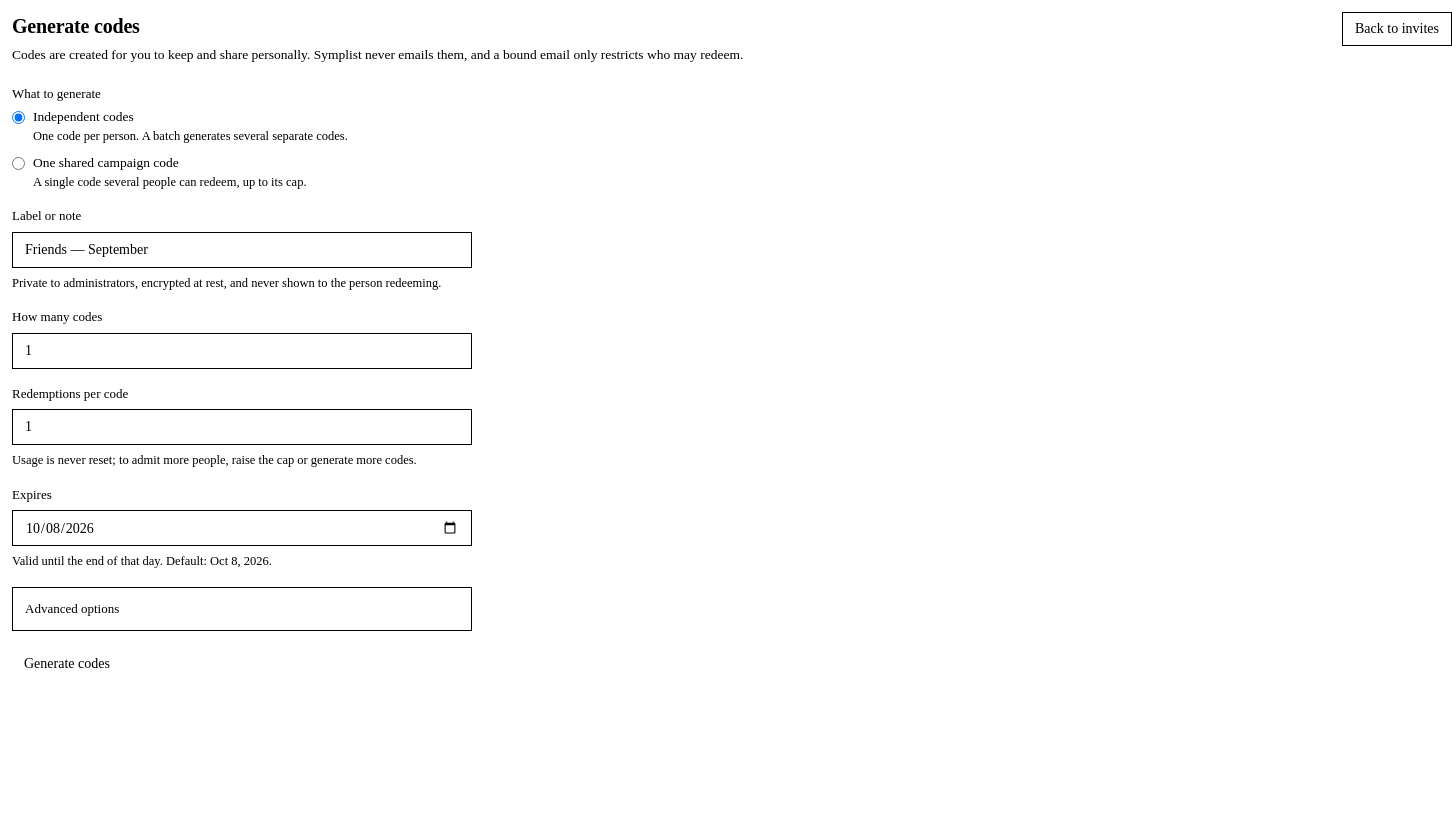
generating invite codes (admin_invite_create.md) › explains a replayed batch whose codes can no longer be shown
Click the button "Generate codes" at (67, 664), box [12,647,122,681]
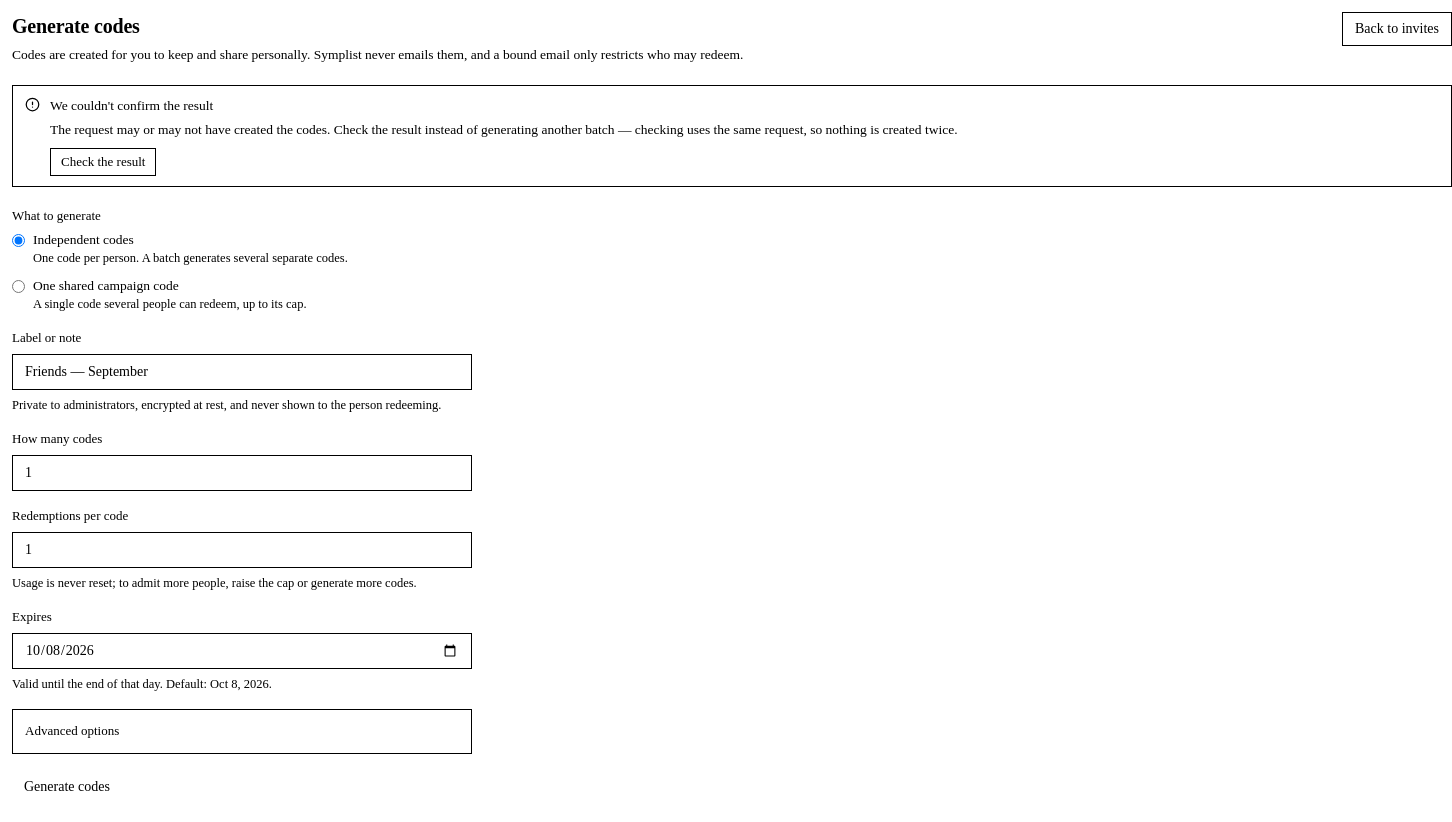
Click the button "Check the result" at (103, 162), box [50,148,156,176]
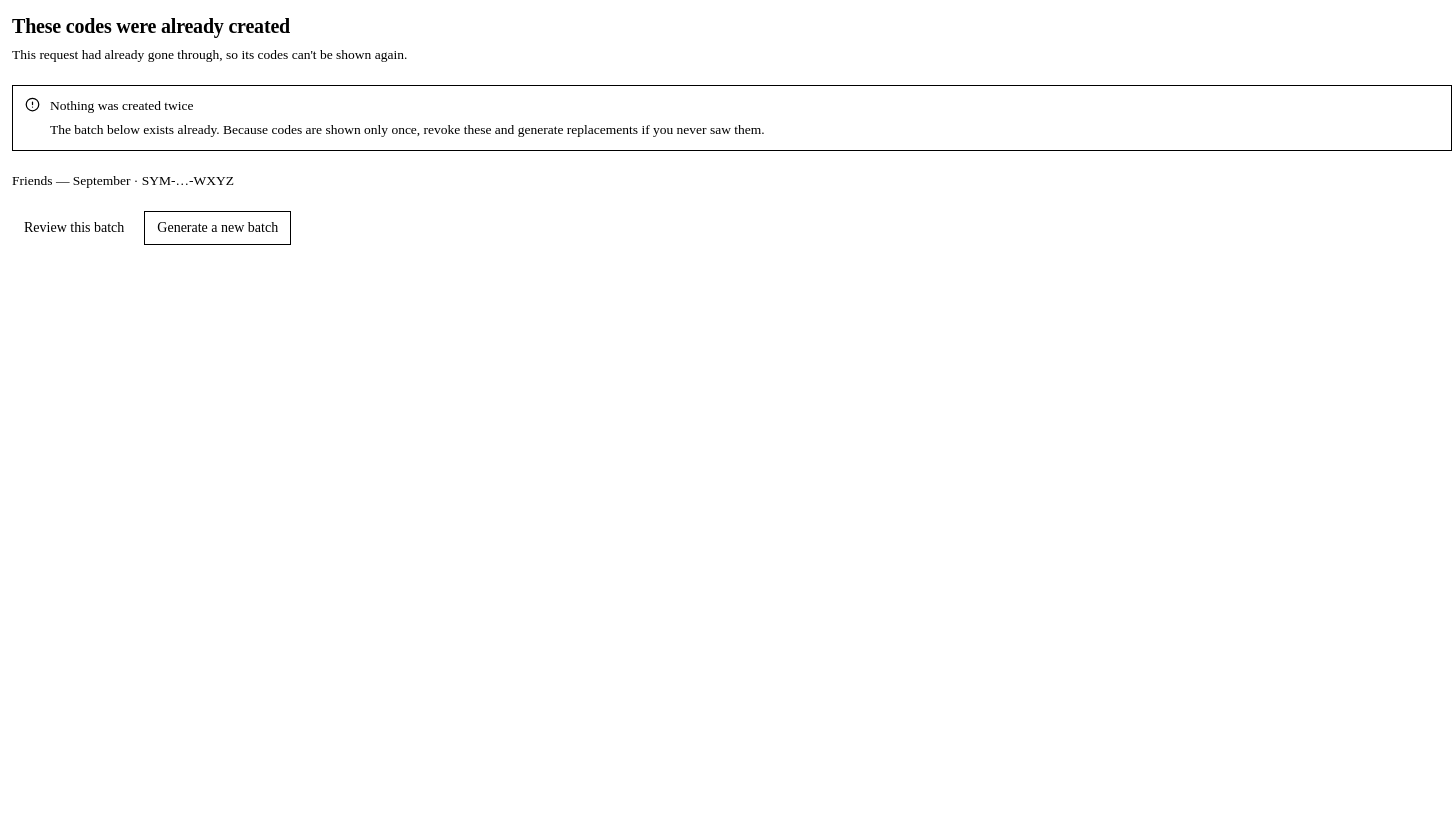
Result: the heading "These codes were already created" is shown at [12,15,290,37]
Result: the text "Nothing was created twice" is shown at [50,98,194,113]
